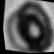correct: (0, 1, 54, 54)
